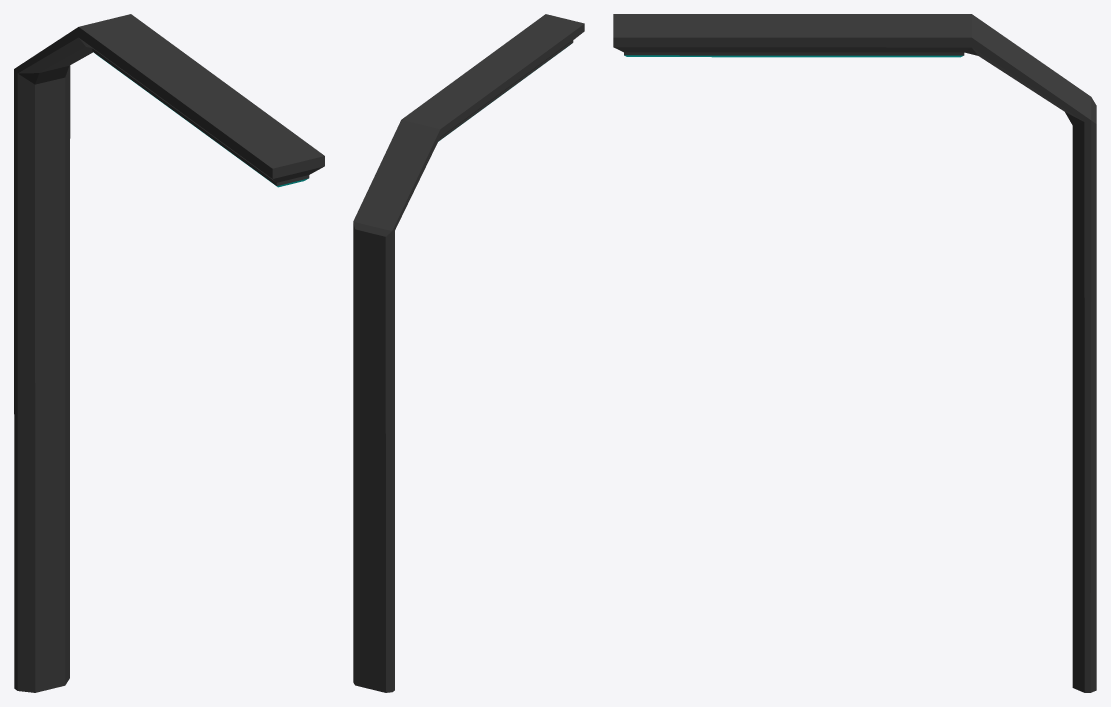
File: momentum_lamppost.fbx
The picture shows the model from 3 angles, left to right: view 1: azimuth 30°, elevation 25°; view 2: azimuth 150°, elevation 25°; view 3: azimuth 270°, elevation 25°; orthographic projection. The views are drawn at different scales.
Parts seen in each view (by area): view 1: pCube1; view 2: pCube1; view 3: pCube1.
Part boxes in pixels (x1,y1,x2,y2): pCube1: (14,14,324,692); pCube1: (353,14,584,692); pCube1: (613,14,1096,692).
Size of the model in its own units: 105 by 1355 by 906.
